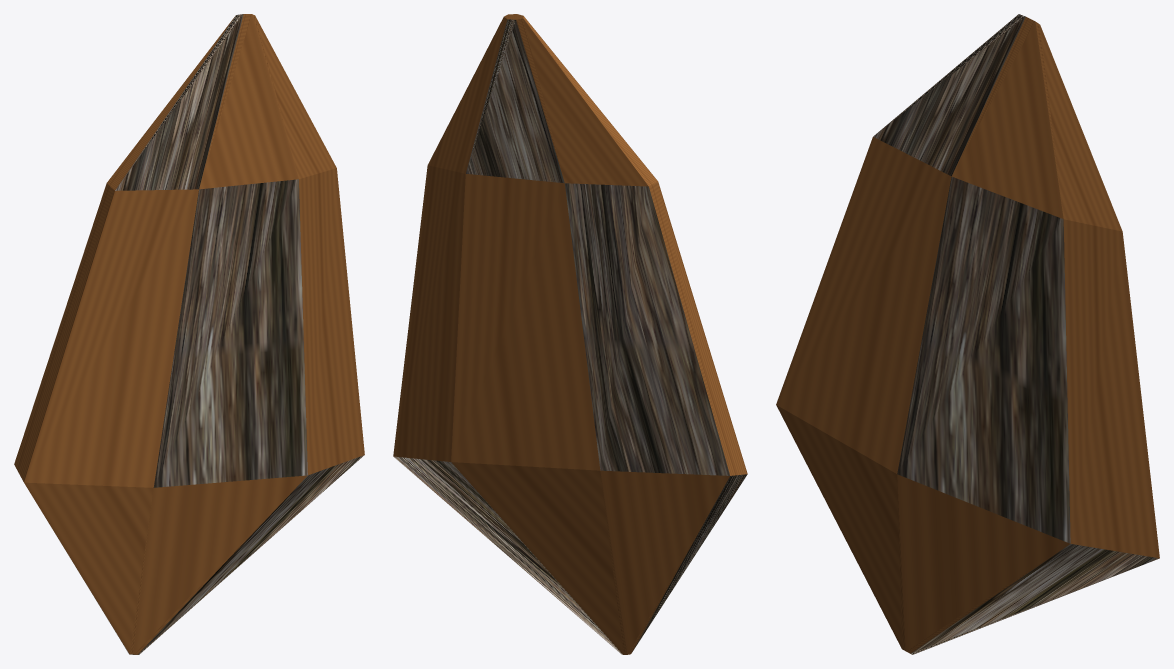
The model's file is SM_HarvestOak_BarkChip01.fbx.
The picture shows the model from 3 angles, left to right: view 1: azimuth 30°, elevation 25°; view 2: azimuth 150°, elevation 25°; view 3: azimuth 330°, elevation 25°; orthographic projection. The views are drawn at different scales.
Parts seen in each view (by area): view 1: SM_HarvestOak_BarkChip01; view 2: SM_HarvestOak_BarkChip01; view 3: SM_HarvestOak_BarkChip01.
Boxes of the visible parts, x1,y1,x2,y2 form: SM_HarvestOak_BarkChip01: (14,14,364,654); SM_HarvestOak_BarkChip01: (393,14,747,654); SM_HarvestOak_BarkChip01: (776,14,1159,654).
Bounding box in the file's own units: 0.0655 × 0.0101 × 0.1108.
2 materials, 2 textured.
